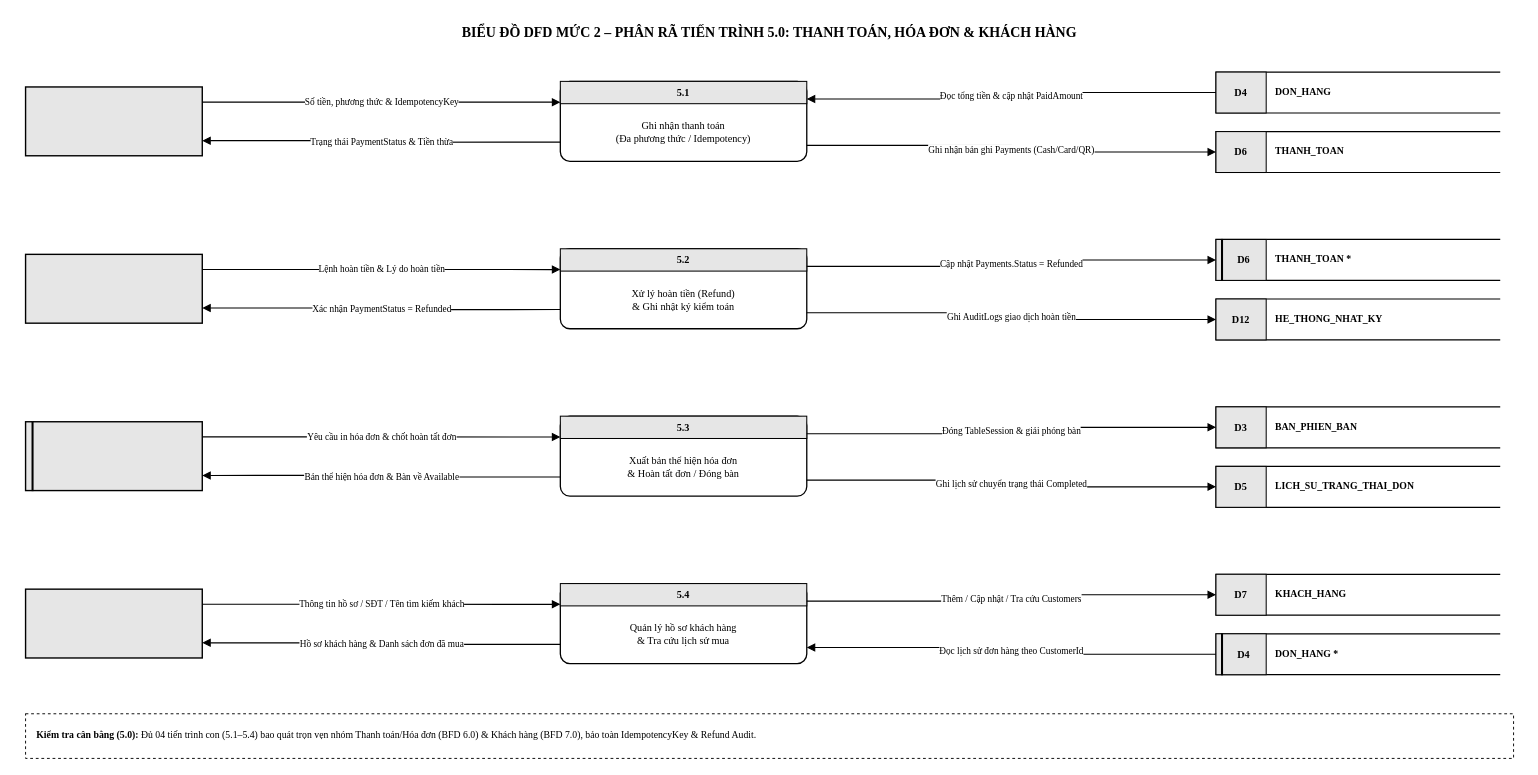
This 1538x775 diagram has some shape labels left out. Here are the shapes that lost their labels. From the top down, the box of each, then its label:
(24, 86, 203, 156): Thu ngân (CASHIER)
(24, 253, 203, 323): Quản lý / Chủ quán (MANAGER / ADMIN)
(24, 421, 203, 491): Thu ngân (CASHIER) *
(24, 588, 203, 658): Thu ngân / Quản lý (CASHIER / MANAGER)
